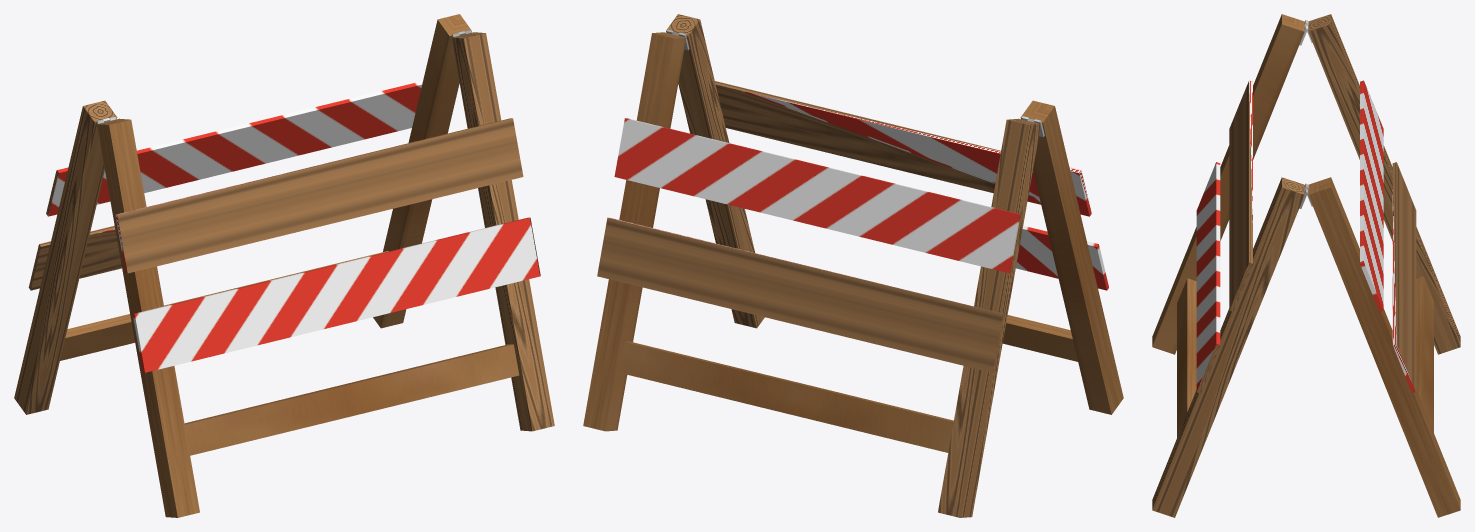
The model's file is DetourBars.fbx.
The picture shows the model from 3 angles, left to right: view 1: azimuth 30°, elevation 25°; view 2: azimuth 150°, elevation 25°; view 3: azimuth 270°, elevation 25°; orthographic projection. The views are drawn at different scales.
Visible parts, largest first — view 1: Cube#2; view 2: Cube#2, Cube.016#2; view 3: Cube#2, Cube.016#2.
Boxes of the visible parts, x1=… form: Cube#2: x1=14, y1=14, x2=554, y2=517; Cube#2: x1=583, y1=14, x2=1123, y2=517; Cube.016#2: x1=742, y1=91, x2=1091, y2=273; Cube#2: x1=1152, y1=14, x2=1460, y2=517; Cube.016#2: x1=1197, y1=80, x2=1415, y2=393.
Size of the model in its own units: 1.2 by 1.02 by 0.8591.
Materials: 1 (1 with a texture image).
